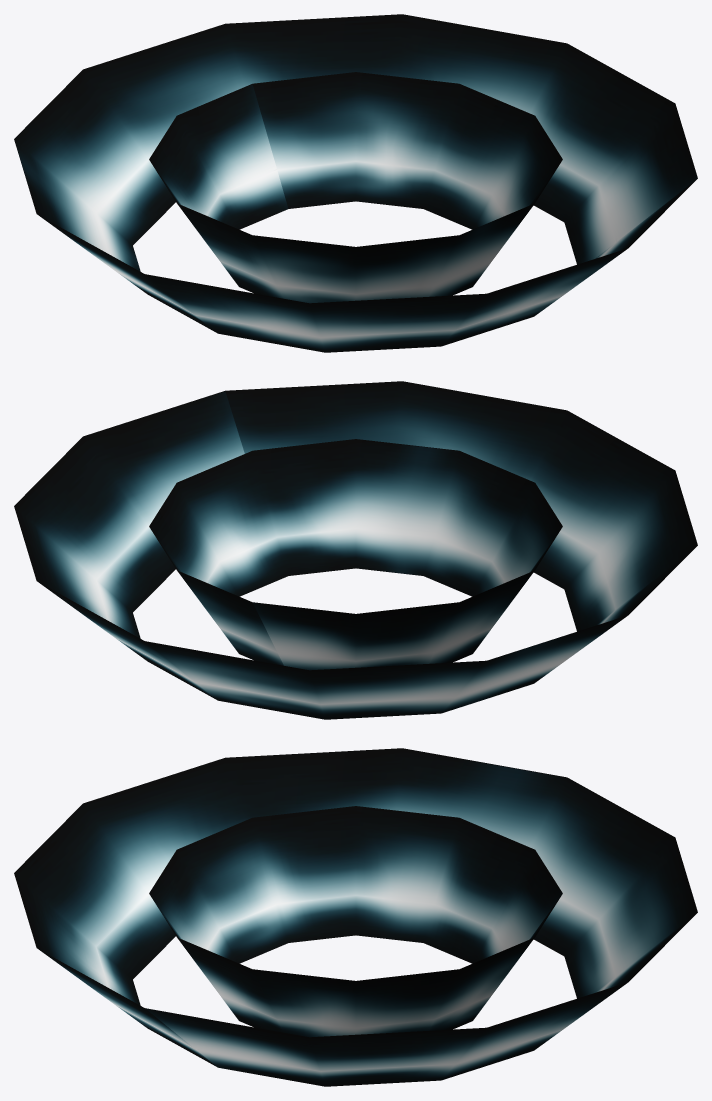
Rendered from fx_scenes_hajt_daiji.FBX.
The picture shows the model from 3 angles, top to bottom: view 1: azimuth 30°, elevation 25°; view 2: azimuth 150°, elevation 25°; view 3: azimuth 270°, elevation 25°; orthographic projection.
Visible parts, largest first — view 1: Cylinder001; view 2: Cylinder001; view 3: Cylinder001.
Part boxes in pixels (left/top/right/bottom): Cylinder001: left=14, top=14, right=697, bottom=352; Cylinder001: left=14, top=381, right=697, bottom=719; Cylinder001: left=14, top=748, right=697, bottom=1086.
Size of the model in its own units: 946 by 946 by 152.
Materials: 1 (1 with a texture image).
